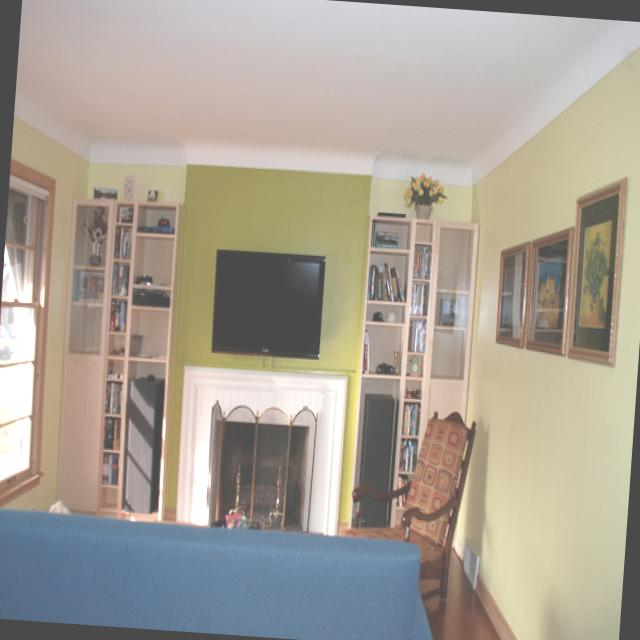Vehicle: (0, 325, 18, 359)
